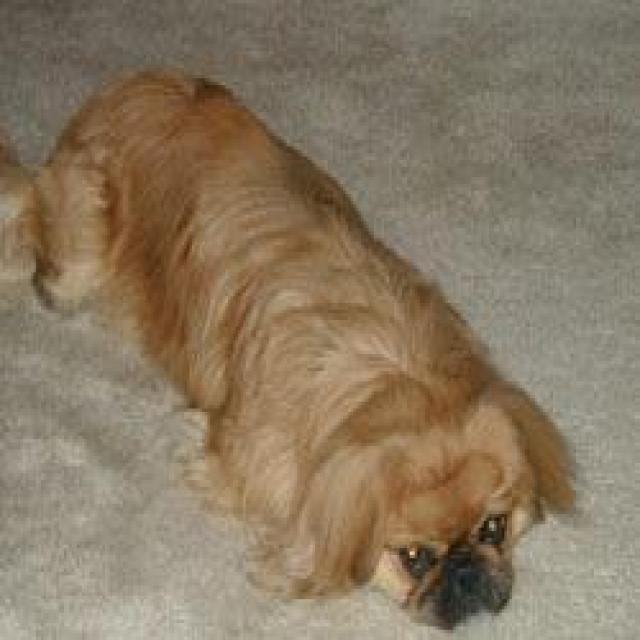pekinese: (0, 61, 591, 636)
